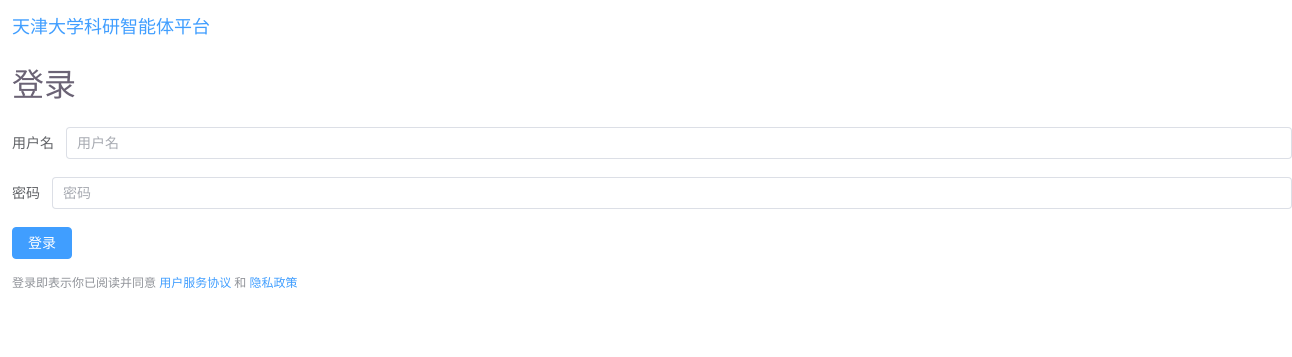
Scenario: LoginView › mustChangePassword=true 登录后进强制改密表单（不跳容器页）
Type "alice" into the field with placeholder "用户名". click: (679, 143)
box: [77,128,1281,158]
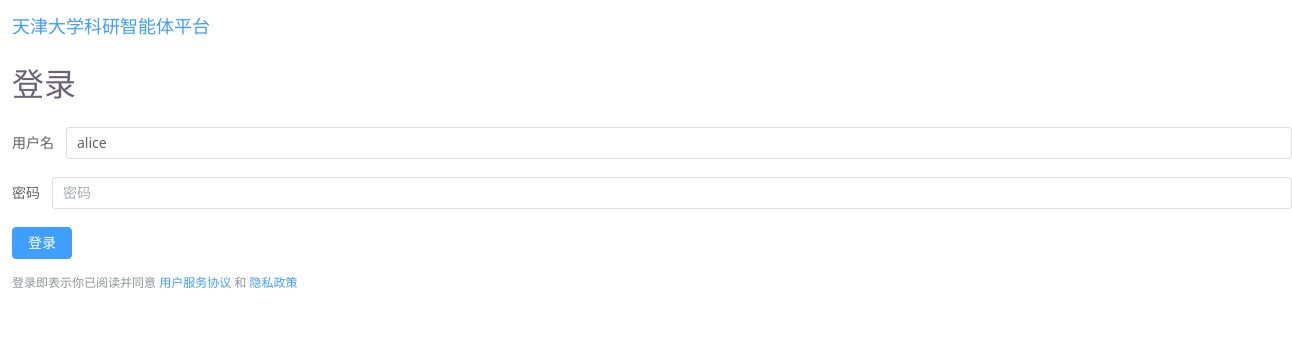
Type "init-pass-1" into the password field with placeholder "密码". click: (672, 193)
box: [63,178,1281,208]
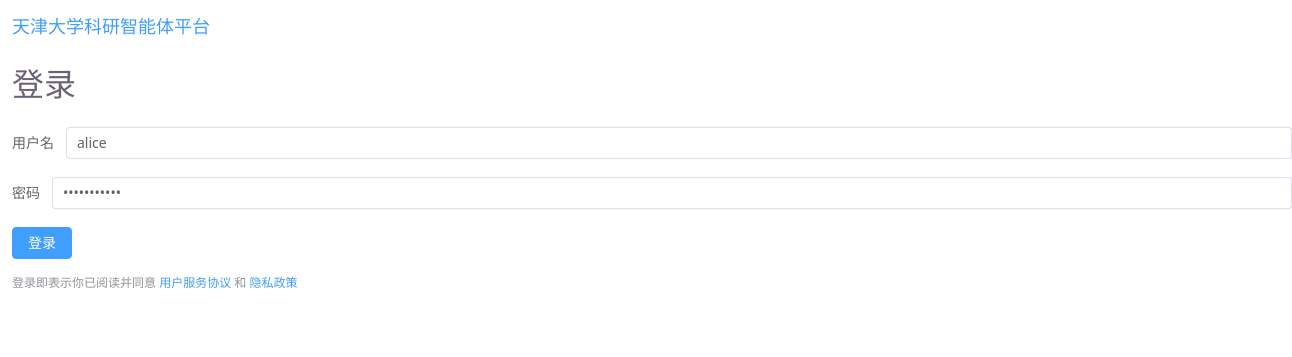
Click the button "登录". click: (42, 243)
box: [12,227,72,259]
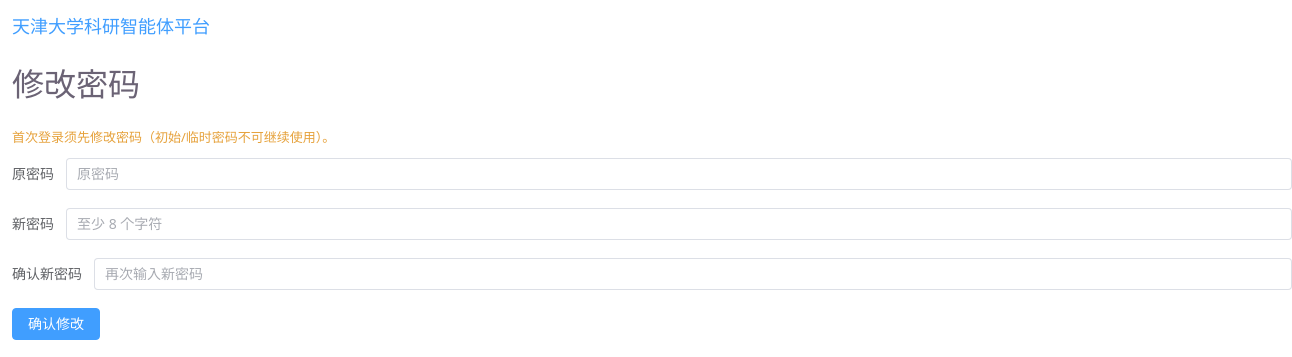
Now the text "修改密码" is shown, box [12,62,140,105]
Now the text "首次登录须先修改密码" is shown, box [12,128,335,146]
